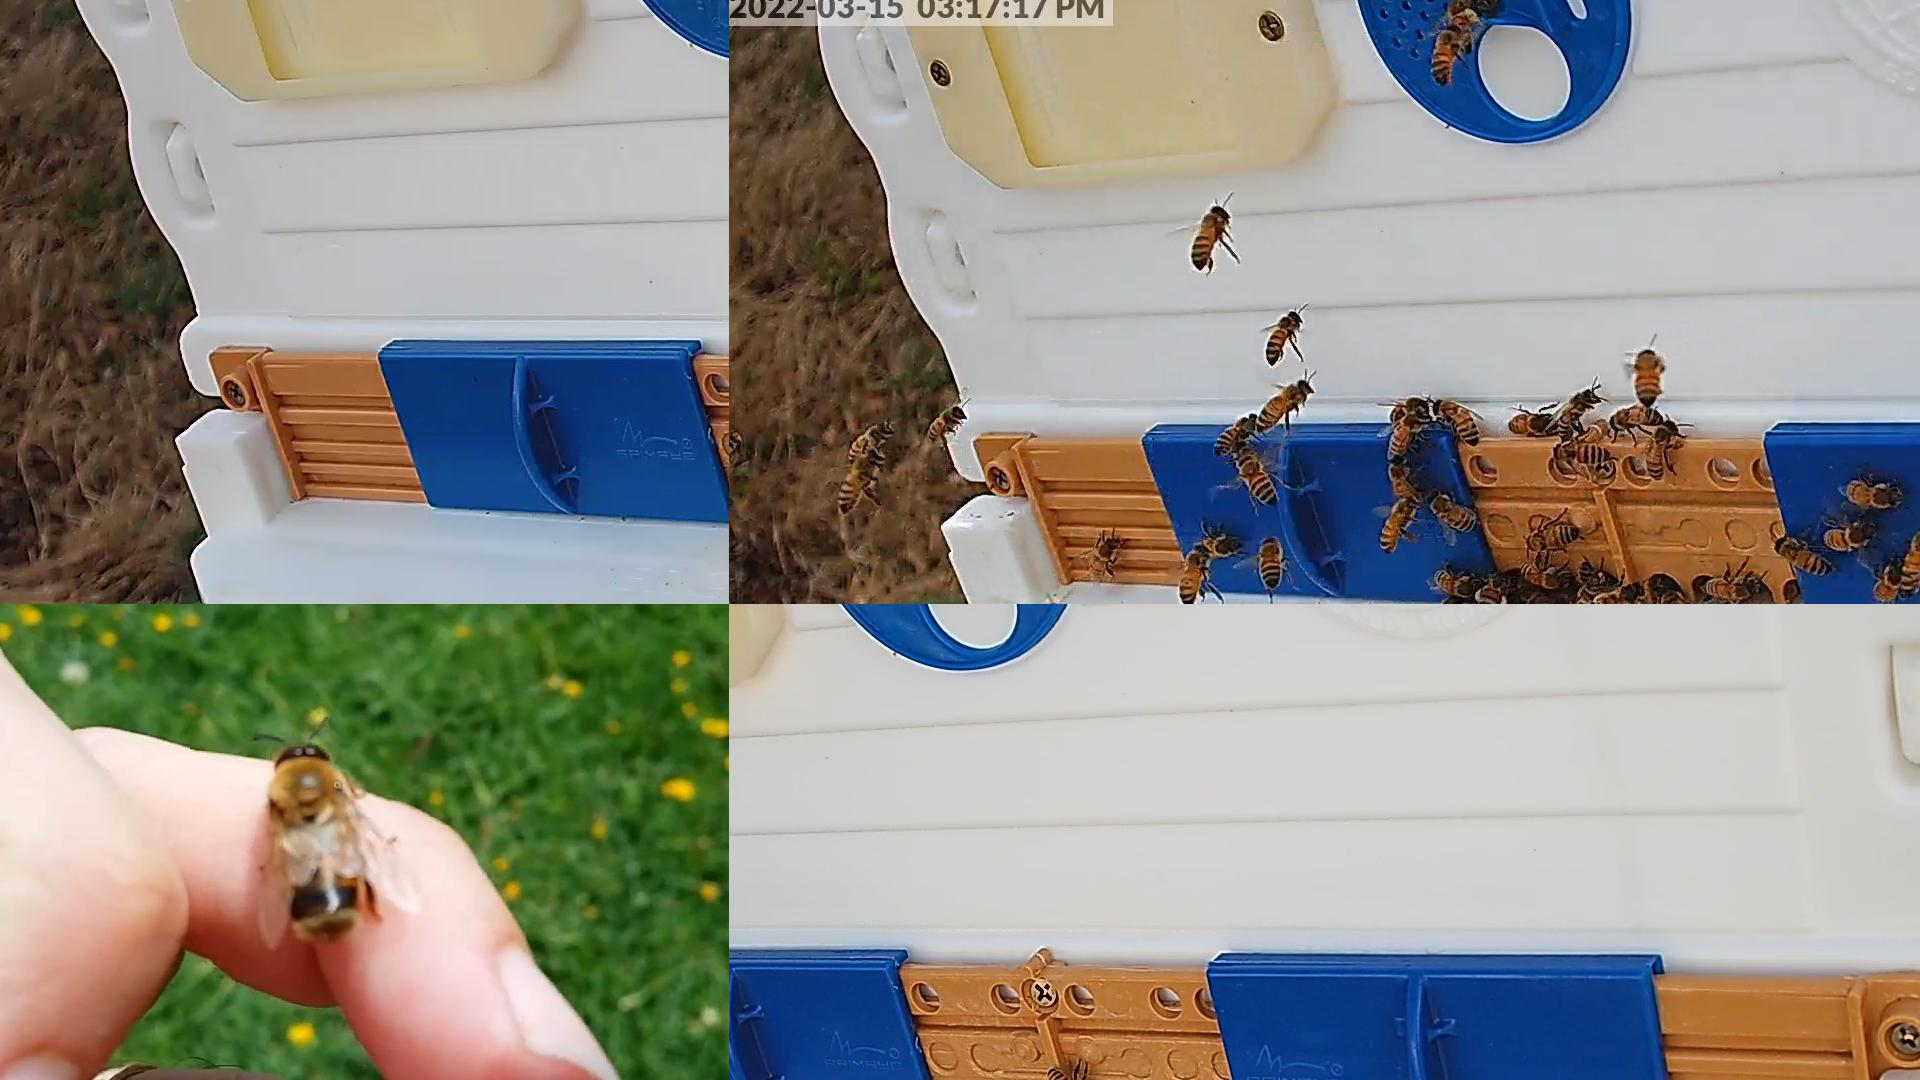bee: (1255, 378, 1316, 434), (837, 454, 882, 513), (1233, 454, 1282, 506), (1192, 207, 1230, 269), (1265, 307, 1303, 365), (1445, 0, 1487, 51), (1427, 492, 1480, 533), (1212, 414, 1259, 459), (1774, 535, 1830, 572), (1435, 401, 1478, 446), (1559, 390, 1600, 438), (1847, 477, 1905, 509), (1648, 419, 1679, 479), (848, 418, 889, 462), (1381, 501, 1415, 553), (927, 401, 968, 443), (1824, 521, 1876, 553), (1390, 411, 1427, 455), (1636, 351, 1663, 407), (1387, 459, 1422, 502), (1435, 28, 1461, 83), (1523, 526, 1578, 550), (1553, 444, 1611, 467), (1610, 407, 1662, 433), (1520, 563, 1571, 588), (1088, 537, 1116, 580), (1182, 543, 1201, 603), (1873, 567, 1905, 603), (1704, 578, 1759, 599), (1509, 414, 1557, 438), (1592, 582, 1644, 603), (1259, 538, 1283, 584), (1436, 571, 1476, 597), (1905, 524, 1919, 597), (1389, 398, 1429, 422), (1199, 537, 1242, 556), (1582, 563, 1607, 596), (729, 430, 746, 477), (1659, 582, 1692, 603), (1505, 571, 1522, 603), (1046, 1068, 1095, 1079), (1702, 589, 1737, 603), (1530, 588, 1557, 603), (1553, 589, 1576, 603)
drone: (273, 742, 361, 938)
pollenbee: (1476, 572, 1506, 603)
